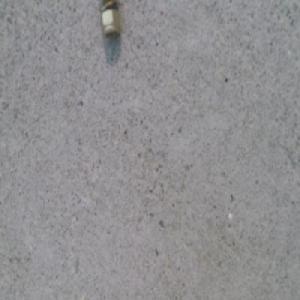BoltNutSet: (100, 0, 120, 39)
